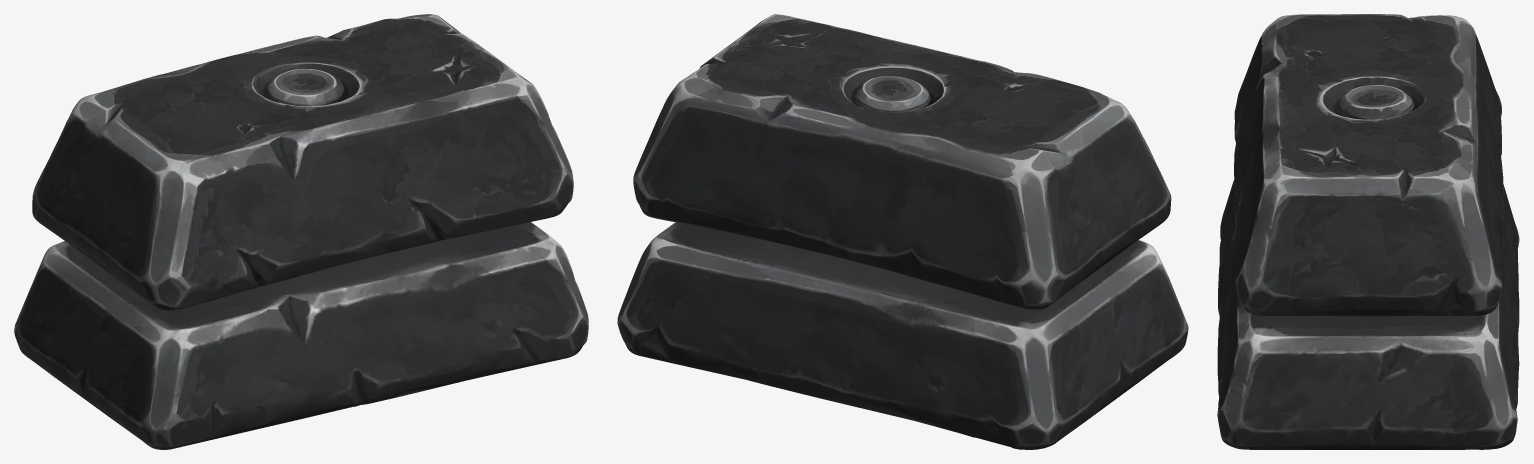
The model's file is mat_iron.glb.
The picture shows the model from 3 angles, left to right: view 1: azimuth 30°, elevation 25°; view 2: azimuth 150°, elevation 25°; view 3: azimuth 270°, elevation 25°; orthographic projection. The views are drawn at different scales.
Parts seen in each view (by area): view 1: output_unwrapped; view 2: output_unwrapped; view 3: output_unwrapped.
Boxes of the visible parts, box(x1,y1,x2,y2) form: output_unwrapped: box(14, 14, 588, 449); output_unwrapped: box(617, 14, 1188, 449); output_unwrapped: box(1217, 14, 1519, 449).
Size of the model in its own units: 1.9 by 1.08 by 1.16.
1 material, 1 textured.
